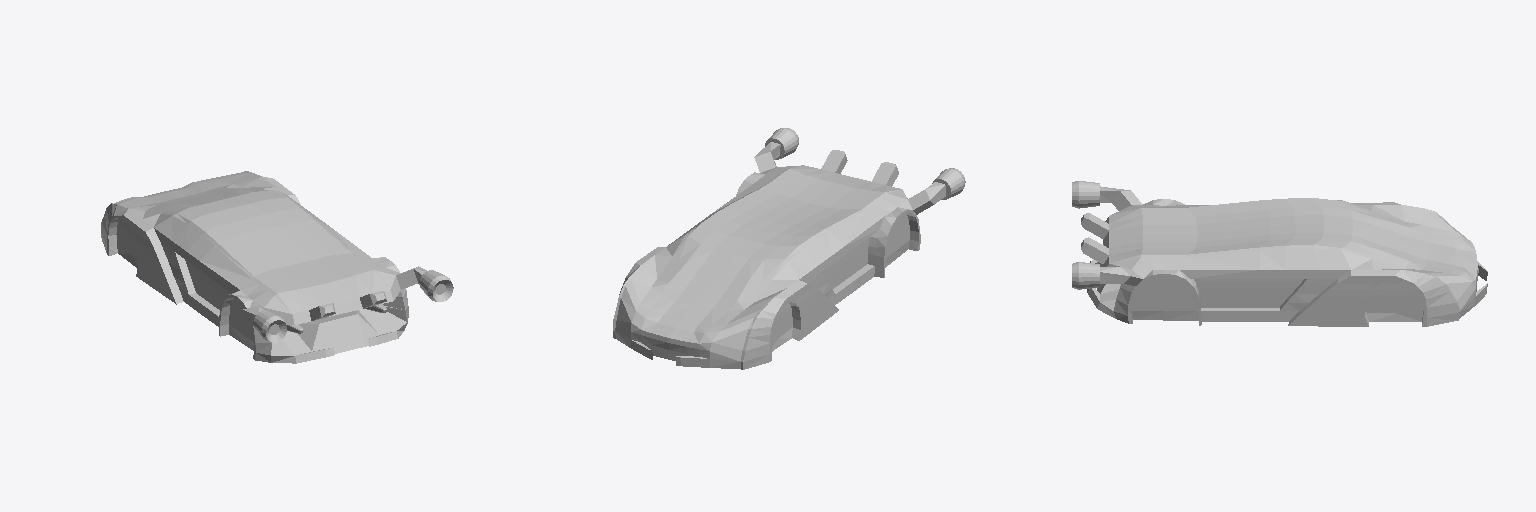
File: GuangThengCarBody.obj
3 views of the same model, side by side, from view 1: azimuth 30°, elevation 25°; view 2: azimuth 150°, elevation 25°; view 3: azimuth 270°, elevation 25° (orthographic).
Size of the model in its own units: 5.34 by 1.84 by 10.06.